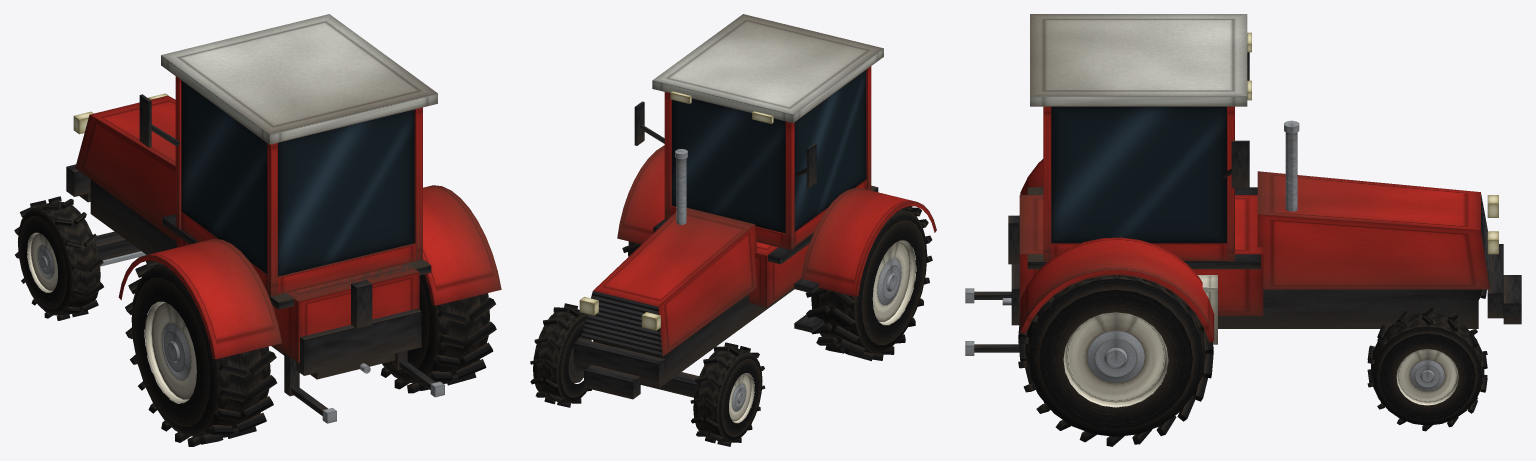
File: Tractor.glb
3 renders of one model, left to right at view 1: azimuth 30°, elevation 25°; view 2: azimuth 150°, elevation 25°; view 3: azimuth 270°, elevation 25°, orthographic. The views are drawn at different scales.
Visible parts, largest first — view 1: Cab, Body, Wheel_RL, Wheel_FL, Wheel_RR, LiftArm_L, FrontAxle, LiftArm_R; view 2: Cab, Body, Wheel_RL, Wheel_FL, Wheel_FR, FrontAxle; view 3: Body, Cab, Wheel_RR, Wheel_FR, LiftArm_R.
Boxes of the visible parts, x1,y1,x2,y2 form: Cab: (139, 14, 437, 296); Body: (66, 93, 501, 379); Wheel_RL: (125, 260, 276, 446); Wheel_FL: (14, 196, 103, 320); Wheel_RR: (381, 274, 496, 393); LiftArm_L: (284, 353, 336, 423); FrontAxle: (94, 231, 146, 266); LiftArm_R: (392, 351, 444, 397); Cab: (634, 14, 883, 250); Body: (573, 145, 936, 399); Wheel_RL: (805, 206, 932, 361); Wheel_FL: (690, 342, 765, 446); Wheel_FR: (530, 303, 593, 407); FrontAxle: (575, 364, 699, 397); Body: (1002, 120, 1521, 344); Cab: (1030, 14, 1251, 261); Wheel_RR: (1018, 275, 1213, 446); Wheel_FR: (1367, 307, 1487, 431); LiftArm_R: (965, 341, 1019, 355).
Size of the model in its own units: 2.92 by 3.16 by 4.91.
Materials: 1 (1 with a texture image).
